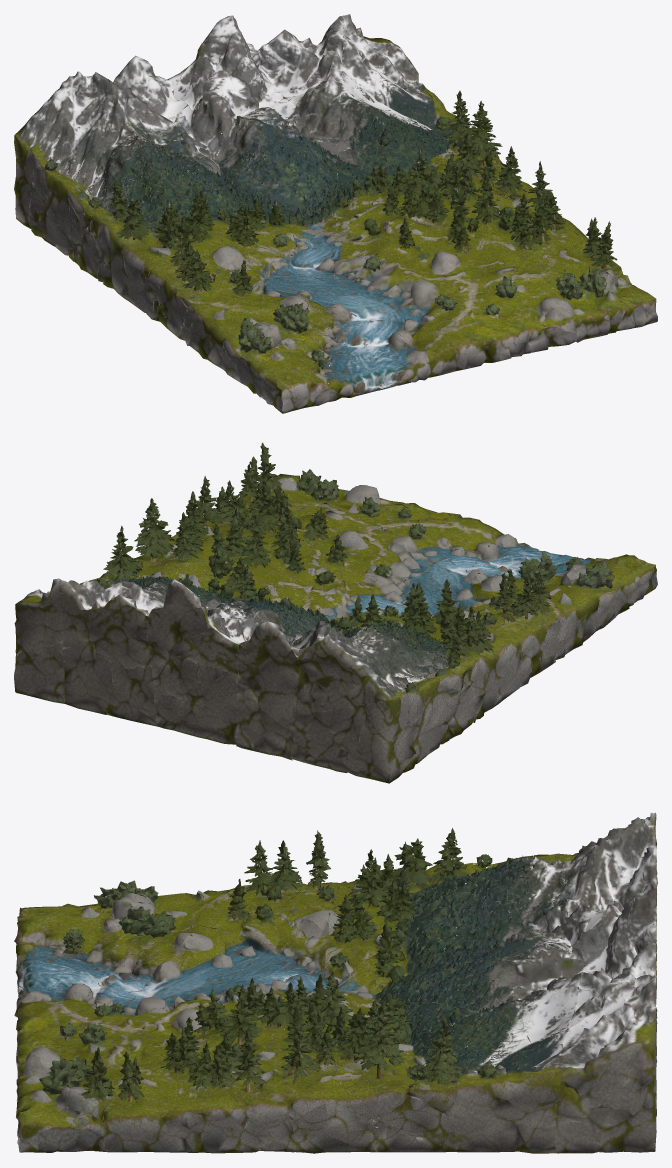
Rendered from Meshy_AI_Alpine_Serenity_20260915_texture.glb.
The picture shows the model from 3 angles, top to bottom: view 1: azimuth 30°, elevation 25°; view 2: azimuth 150°, elevation 25°; view 3: azimuth 270°, elevation 25°; orthographic projection. The views are drawn at different scales.
Visible parts, largest first — view 1: Mesh_0; view 2: Mesh_0; view 3: Mesh_0.
Part boxes in pixels (x1,y1,x2,y2): Mesh_0: (14, 14, 657, 413); Mesh_0: (14, 442, 657, 783); Mesh_0: (14, 812, 657, 1153).
Size of the model in its own units: 1.55 by 0.5958 by 1.91.
Materials: 1 (1 with a texture image).
